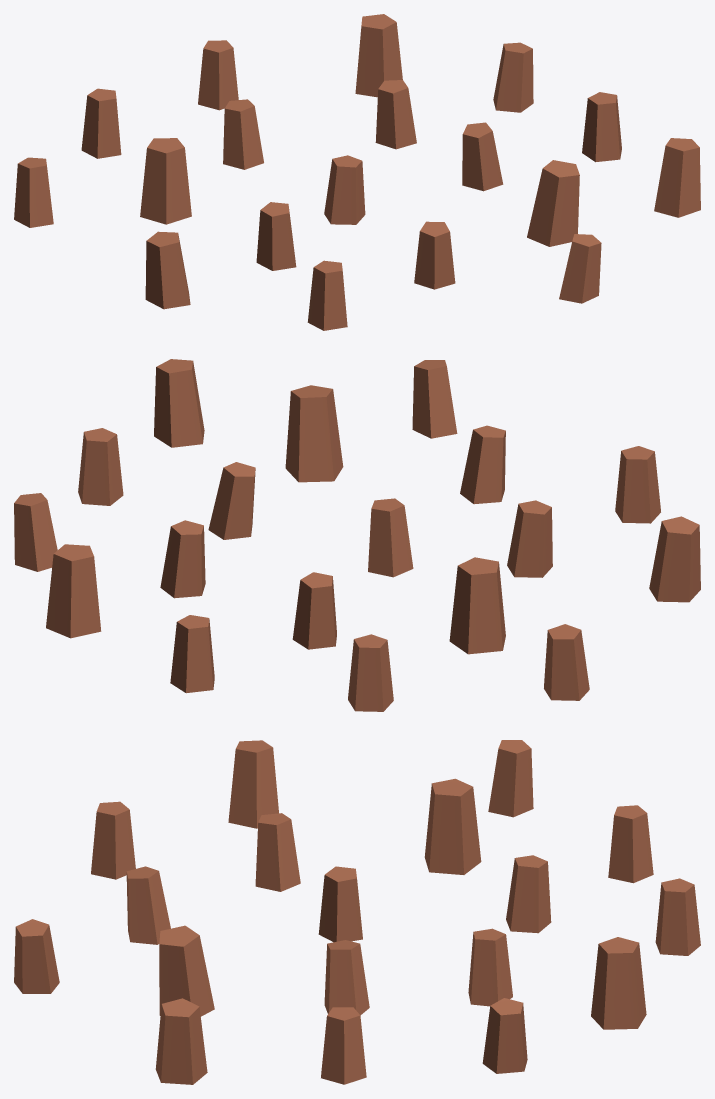
File: trees_A_cut.gltf
The picture shows the model from 3 angles, top to bottom: view 1: azimuth 30°, elevation 25°; view 2: azimuth 150°, elevation 25°; view 3: azimuth 270°, elevation 25°; orthographic projection. The views are drawn at different scales.
Parts seen in each view (by area): view 1: trees_A_cut; view 2: trees_A_cut; view 3: trees_A_cut.
Part boxes in pixels (x1,y1,x2,y2): trees_A_cut: (14, 14, 700, 330); trees_A_cut: (14, 359, 700, 711); trees_A_cut: (14, 740, 700, 1084).
Size of the model in its own units: 1.66 by 0.2096 by 1.68.
Materials: 1 (1 with a texture image).
